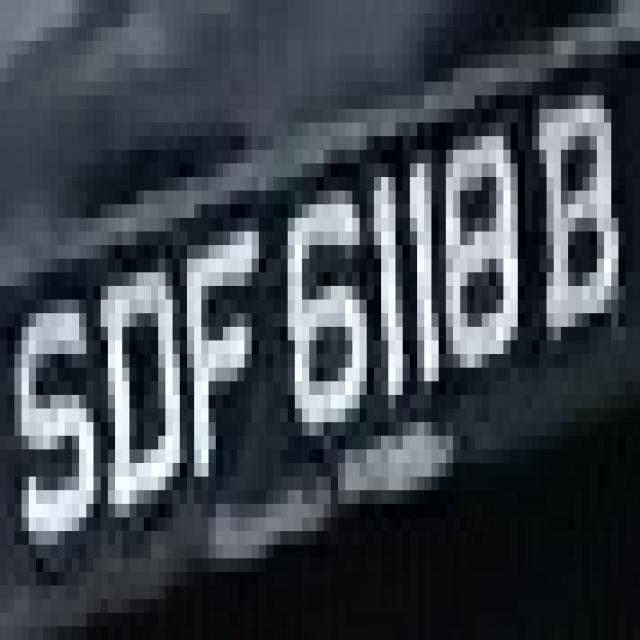1: (345, 136, 403, 477), (388, 109, 446, 436)
6: (280, 150, 367, 463)
8: (424, 123, 525, 381)
B: (518, 81, 626, 368)
D: (86, 232, 187, 544)
F: (165, 205, 274, 518)
S: (7, 245, 108, 572)
